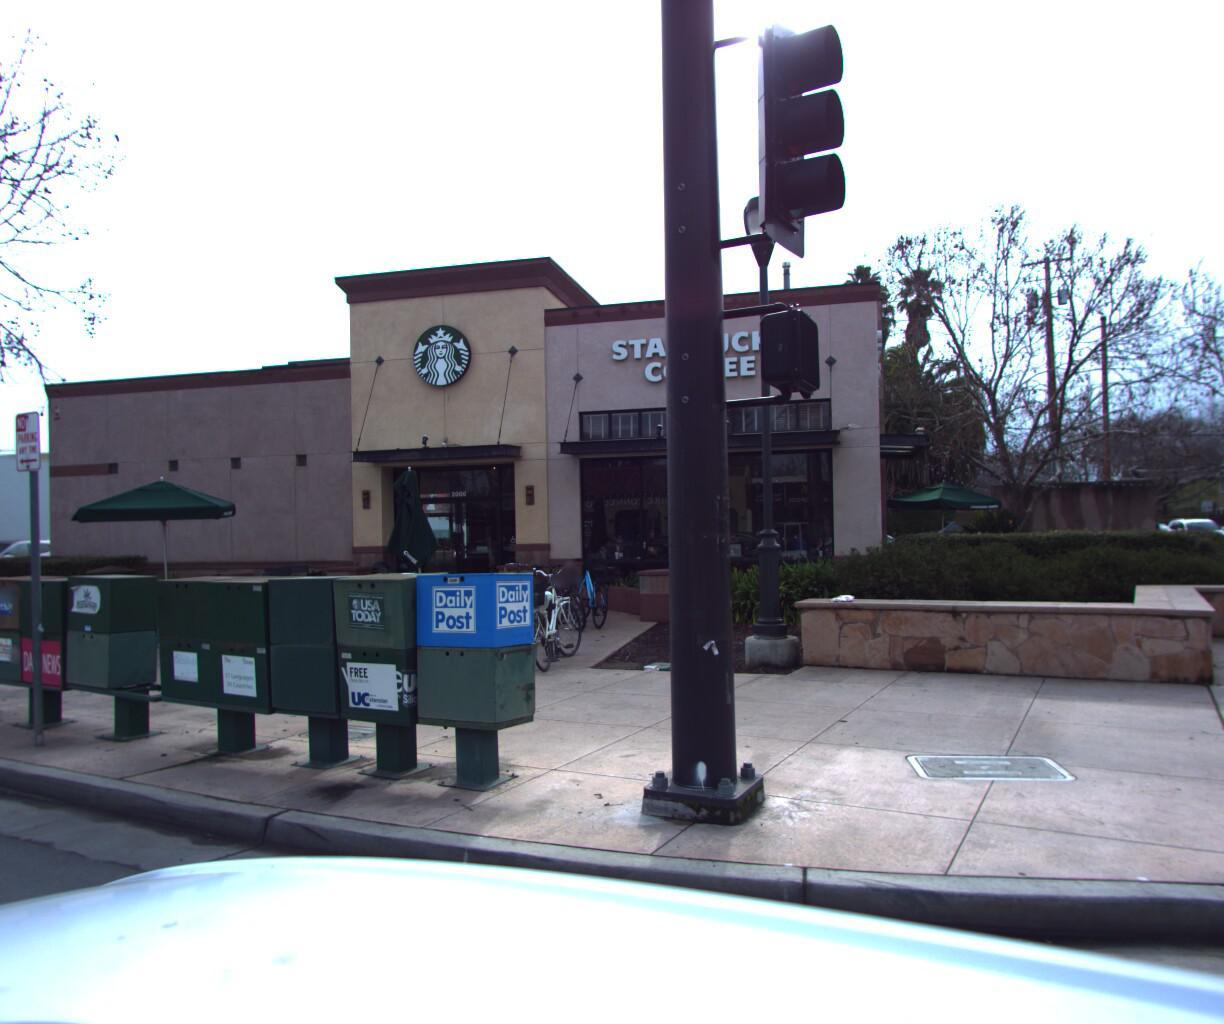bicycle: (475, 561, 609, 677), (508, 547, 610, 629), (554, 546, 640, 626)
car: (899, 513, 1019, 550), (1154, 510, 1224, 549)
